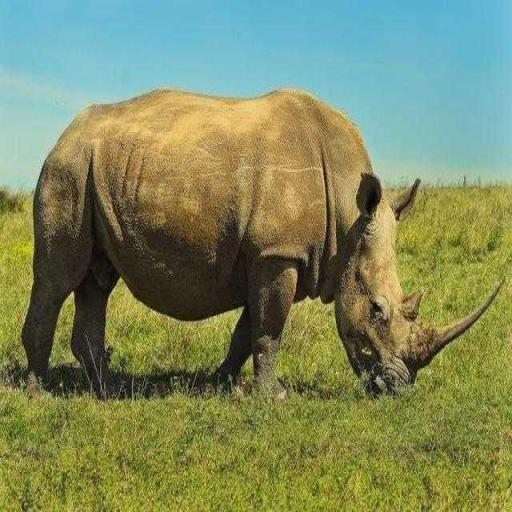Rhino: (19, 83, 503, 403)
